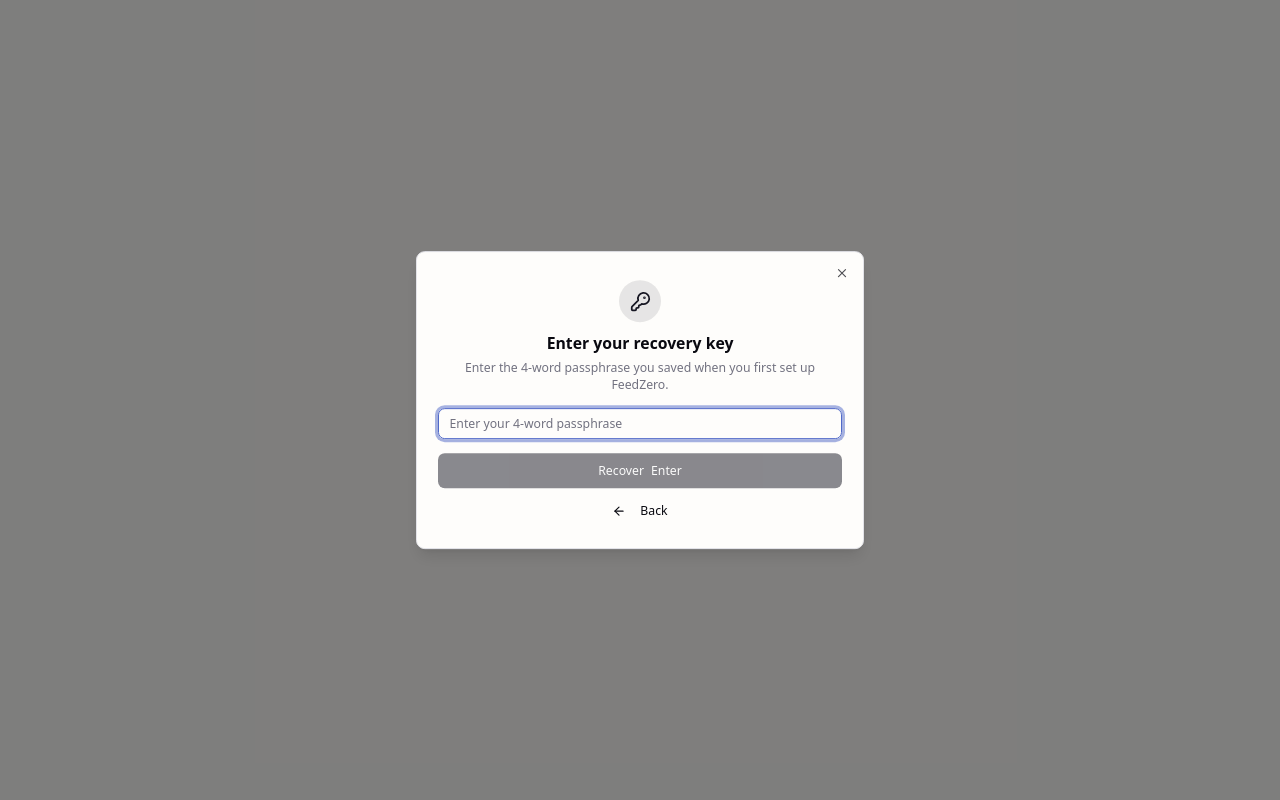
Test: RecoveryStep › shows error when db open fails
In the field with placeholder "Enter your 4-word passphrase": (640, 424) [438,408,842,439], type "wrong passphrase here now"
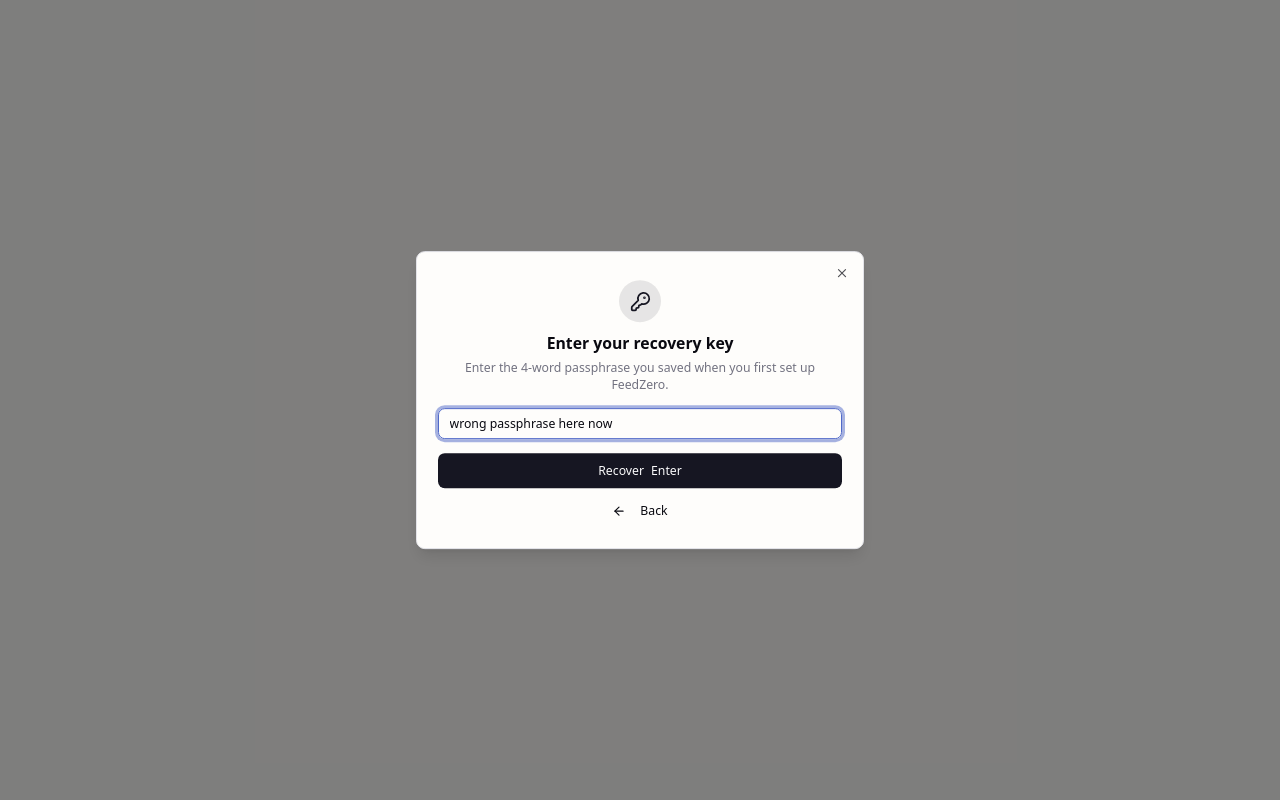
Click the button "Recover Enter": click(640, 471) [438,453,842,488]
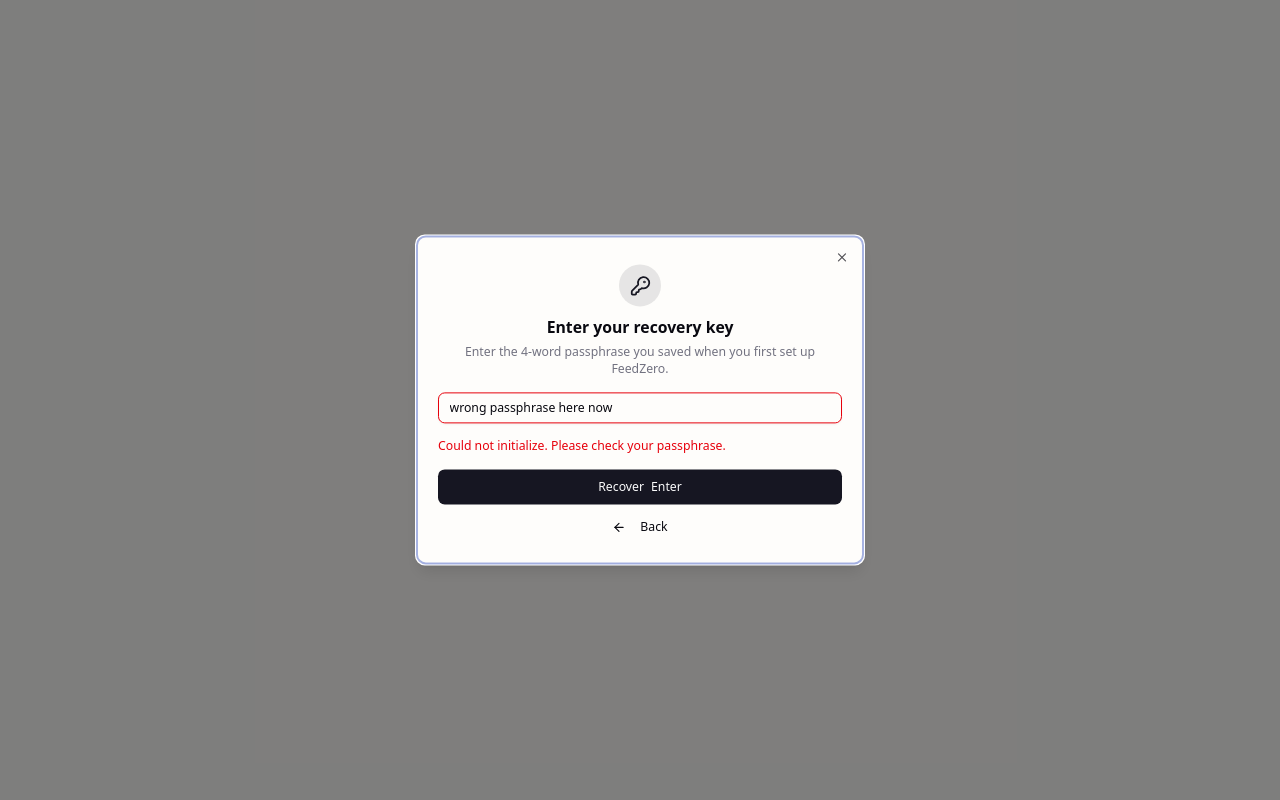
expect the text "Could not initialize. Please check your passphrase." is shown: met, box [438,438,726,455]
